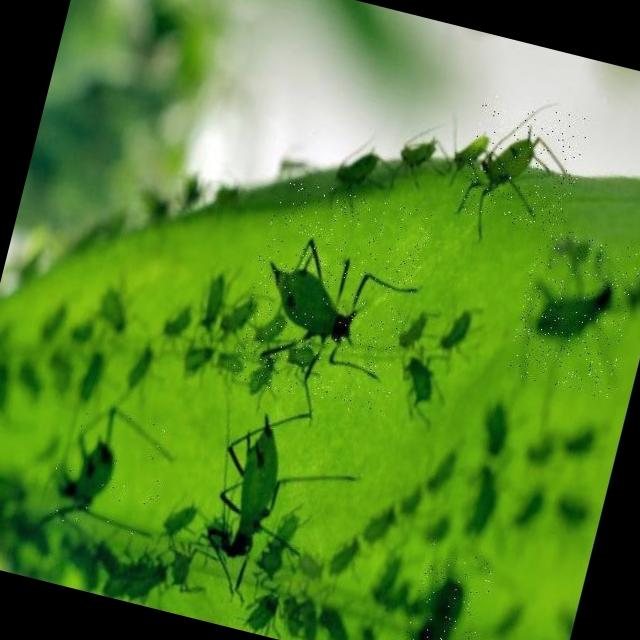aphid: (228, 174, 435, 418), (193, 400, 332, 600), (504, 223, 640, 398), (41, 404, 176, 554), (457, 94, 592, 238), (400, 541, 497, 640)
